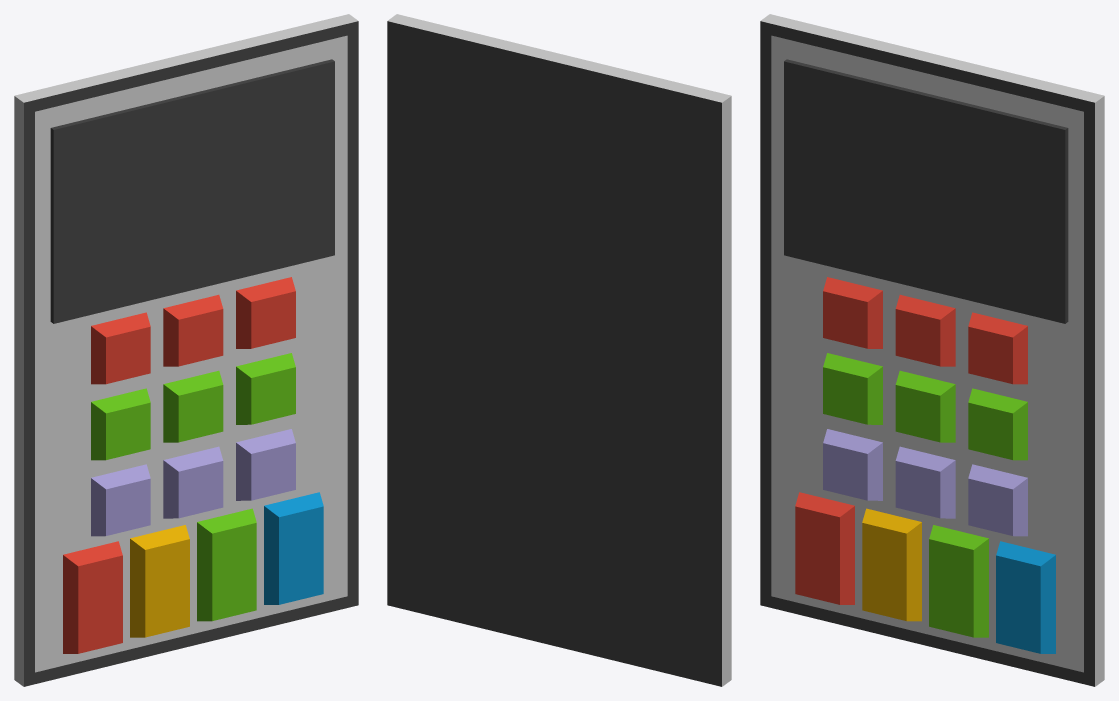
The model's file is scifi_panel_vertical.fbx.
3 renders of one model, left to right at view 1: azimuth 30°, elevation 25°; view 2: azimuth 150°, elevation 25°; view 3: azimuth 330°, elevation 25°, orthographic.
Visible parts, largest first — view 1: Screen.002; view 2: Screen.002; view 3: Screen.002.
Part boxes in pixels (bbox=[...]): Screen.002: bbox=[14, 14, 358, 686]; Screen.002: bbox=[387, 14, 731, 686]; Screen.002: bbox=[760, 14, 1104, 686].
Size of the model in its own units: 0.6 by 1 by 0.06.
